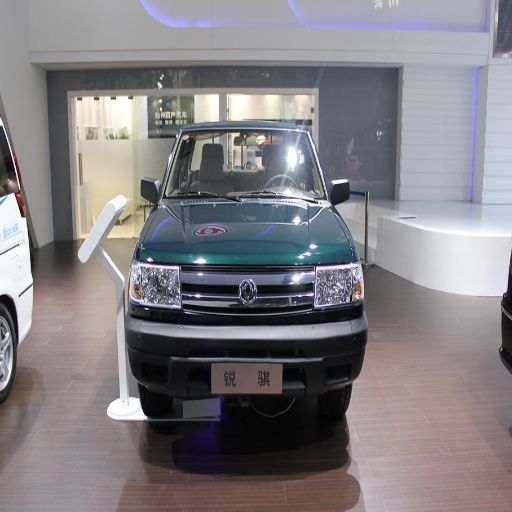front_bumper: (119, 265, 367, 487)
front_right_light: (127, 247, 178, 307)
hood: (143, 199, 355, 267)
